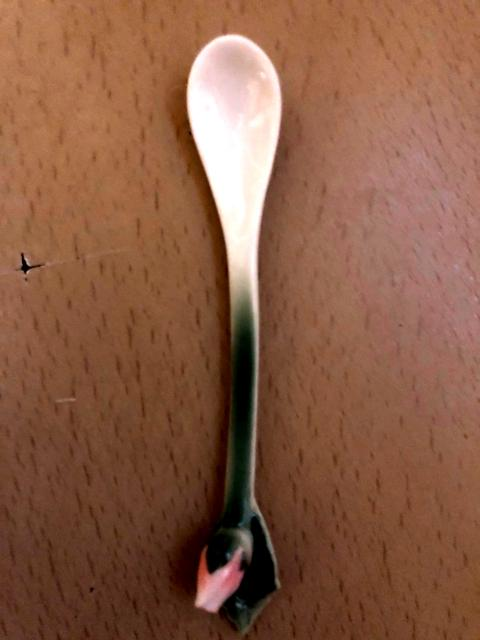Spoon: (187, 36, 280, 631)
